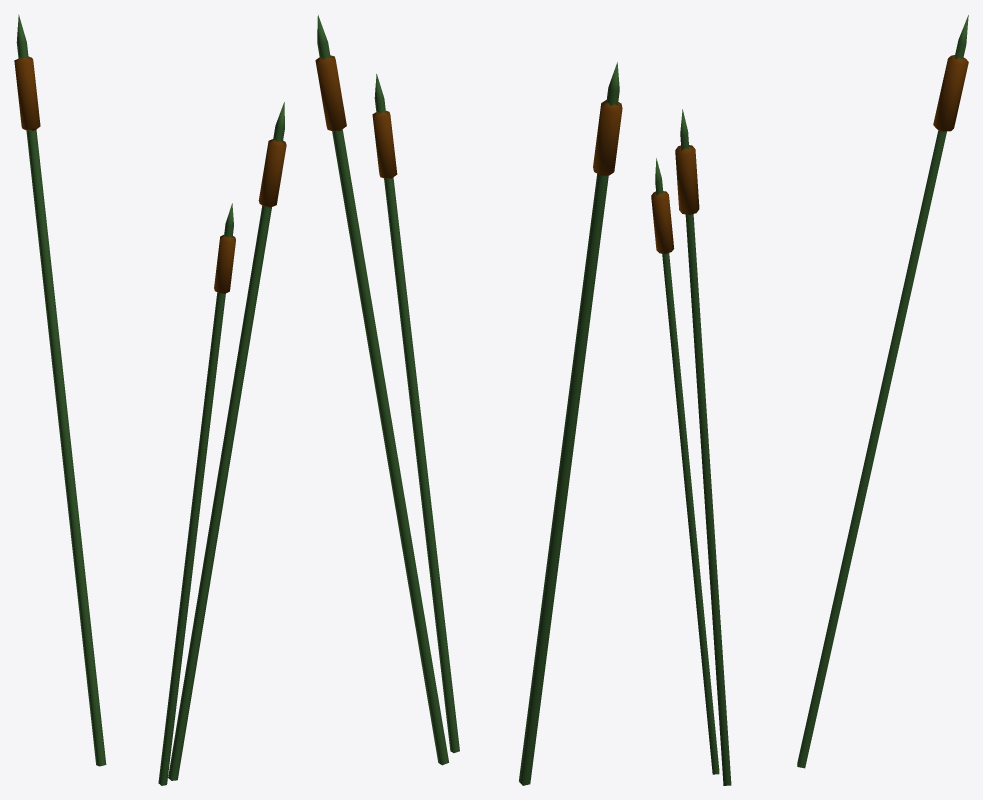
The model's file is Tails_003.fbx.
The picture shows the model from 3 angles, left to right: view 1: azimuth 30°, elevation 25°; view 2: azimuth 210°, elevation 25°; view 3: azimuth 270°, elevation 25°; orthographic projection. The views are drawn at different scales.
Visible parts, largest first — view 1: Tails.003; view 2: Tails.003; view 3: Tails.003.
Part boxes in pixels (<box>): Tails.003: <box>14,14,286,785</box>; Tails.003: <box>315,15,622,785</box>; Tails.003: <box>651,15,968,785</box>.
Bounding box in the file's own units: 7.6 × 35.16 × 13.5.
